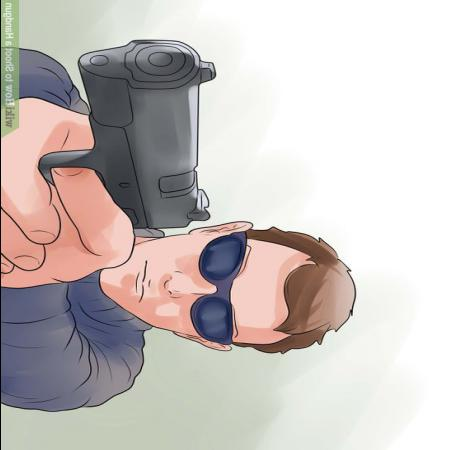Pistol: (38, 38, 215, 238)
